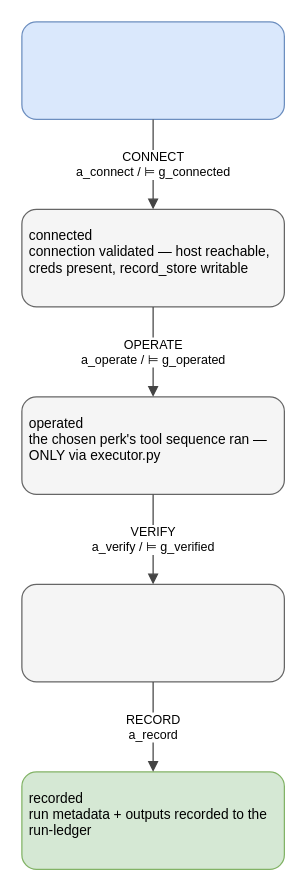
Some shapes in this 306 by 891 pixel diagram are drawn without their labels. The shapes that lost their labels are listed below. From the top down, each one's centre as x and y in pixels, then its label:
At pixel 152 70: "ready task-ledger submitted, nothing run".
At pixel 152 632: "verified the perk's contract checks passed (exit 0, declared outputs exist)".
